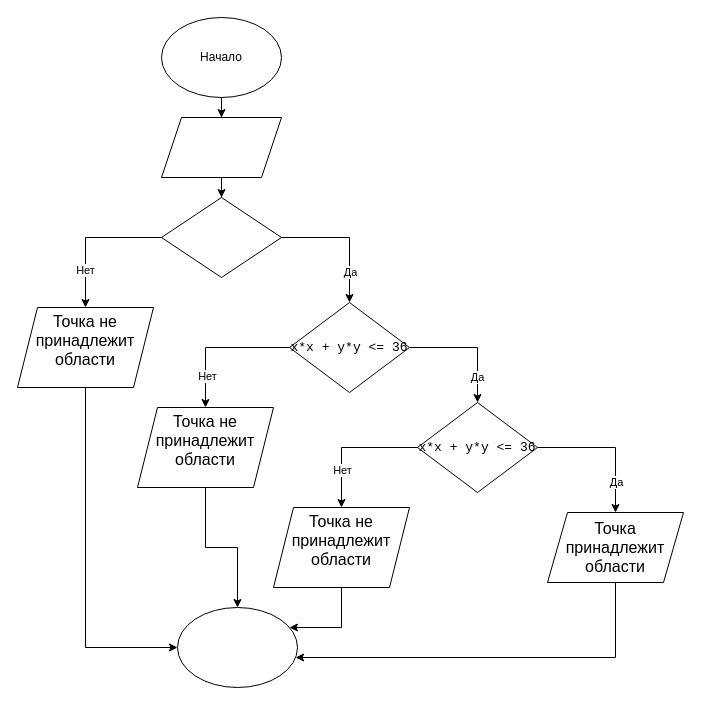
Some shapes in this 701 by 705 pixel diagram are drawn without their labels. The box of each missing label's shape, as (x1, y1, x2, y2) in pixels:
x, y: (160, 116, 282, 178)
y >= 0: (160, 196, 282, 278)
Конец: (176, 606, 298, 688)
